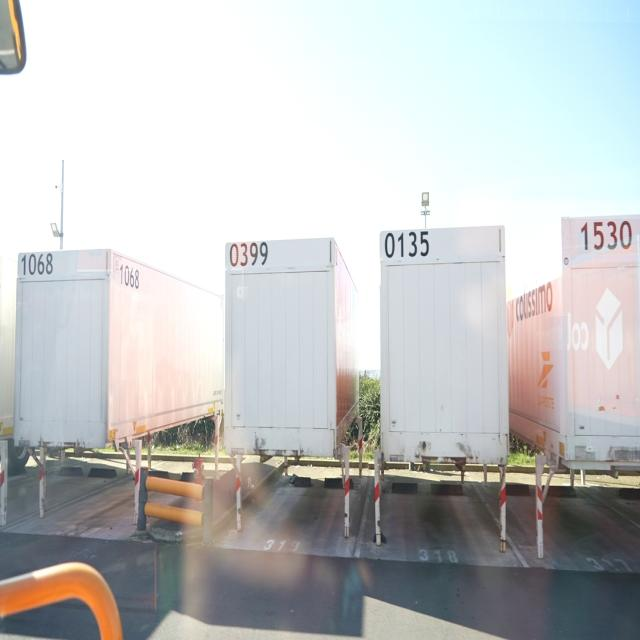Code: (579, 216, 635, 259), (384, 228, 431, 266), (227, 237, 271, 270), (20, 250, 54, 280), (116, 255, 142, 293)
